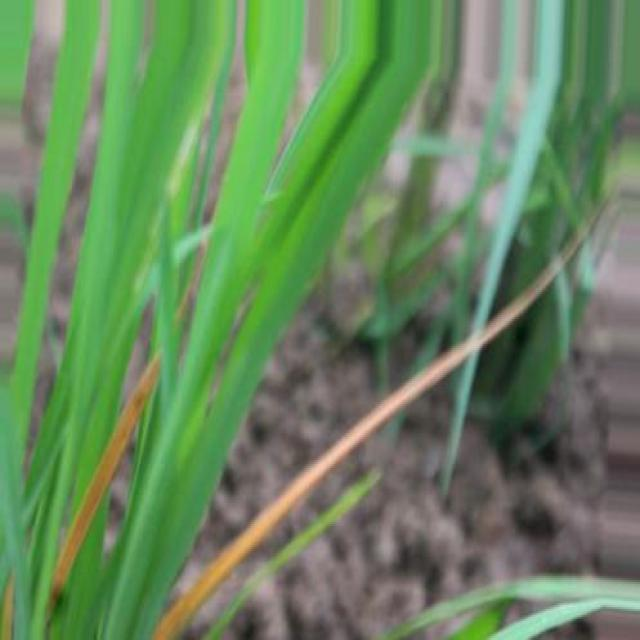Rice Tungro: (154, 211, 601, 639), (51, 357, 158, 607)
